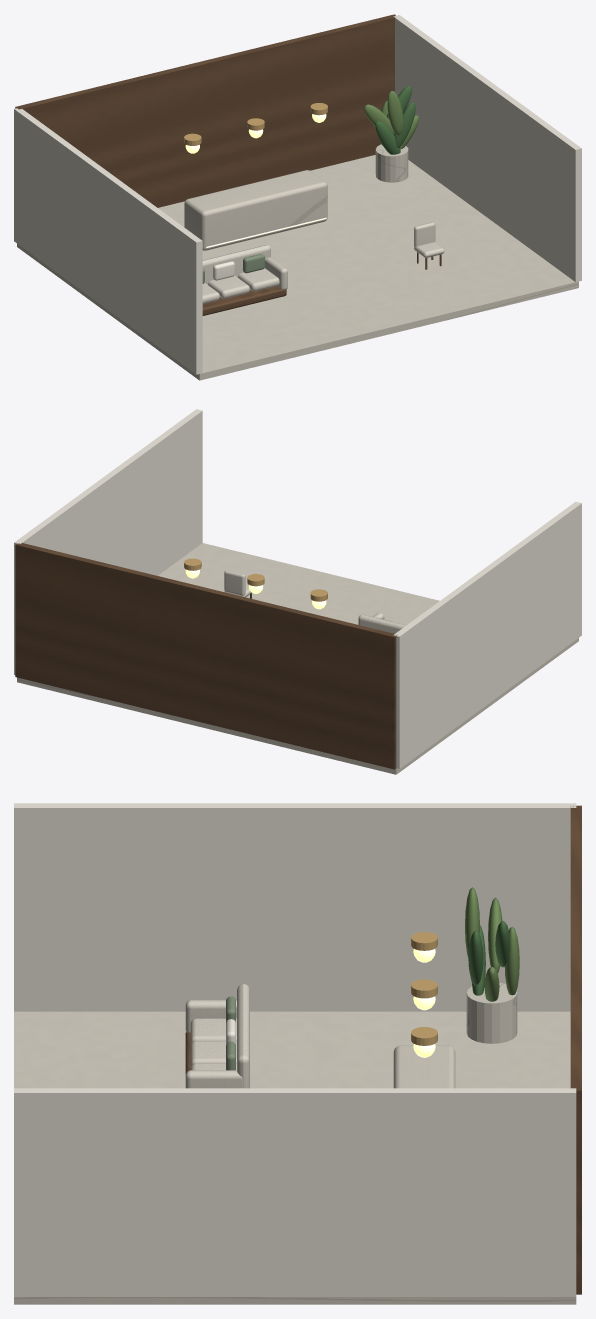
The model's file is reception.glb.
The picture shows the model from 3 angles, top to bottom: view 1: azimuth 30°, elevation 25°; view 2: azimuth 150°, elevation 25°; view 3: azimuth 270°, elevation 25°; orthographic projection. The views are drawn at different scales.
Parts seen in each view (by area): view 1: Reception__Ivory plaster, Reception__Honed limestone, Reception__Smoked walnut, Reception__Linen upholstery, Reception__Foliage light, Reception__Foliage, Reception__Brushed brass, Reception__Warm cove light; view 2: Reception__Smoked walnut, Reception__Ivory plaster, Reception__Honed limestone, Reception__Linen upholstery, Reception__Brushed brass; view 3: Reception__Ivory plaster, Reception__Honed limestone, Reception__Linen upholstery, Reception__Smoked walnut, Reception__Foliage light, Reception__Foliage, Reception__Brushed brass, Reception__Warm cove light.
Boxes of the visible parts, box(x1,y1,x2,y2) form: Reception__Ivory plaster: box(14, 15, 581, 374); Reception__Honed limestone: box(17, 144, 578, 380); Reception__Smoked walnut: box(15, 14, 441, 315); Reception__Linen upholstery: box(202, 222, 444, 303); Reception__Foliage light: box(364, 91, 419, 149); Reception__Foliage: box(375, 85, 415, 154); Reception__Brushed brass: box(184, 103, 327, 145); Reception__Warm cove light: box(185, 114, 326, 247); Reception__Smoked walnut: box(15, 543, 397, 769); Reception__Ivory plaster: box(14, 409, 581, 768); Reception__Honed limestone: box(17, 543, 578, 774); Reception__Linen upholstery: box(224, 570, 406, 633); Reception__Brushed brass: box(184, 558, 327, 601); Reception__Ivory plaster: box(14, 803, 576, 1296); Reception__Honed limestone: box(14, 982, 576, 1304); Reception__Linen upholstery: box(185, 983, 249, 1088); Reception__Smoked walnut: box(185, 805, 581, 1294); Reception__Foliage light: box(465, 887, 519, 1001); Reception__Foliage: box(468, 921, 510, 995); Reception__Brushed brass: box(411, 932, 437, 1045); Reception__Warm cove light: box(413, 949, 435, 1057).
Bounding box in the file's own units: 12.2 × 4.2 × 10.1.
Materials: 9 (3 with a texture image).
